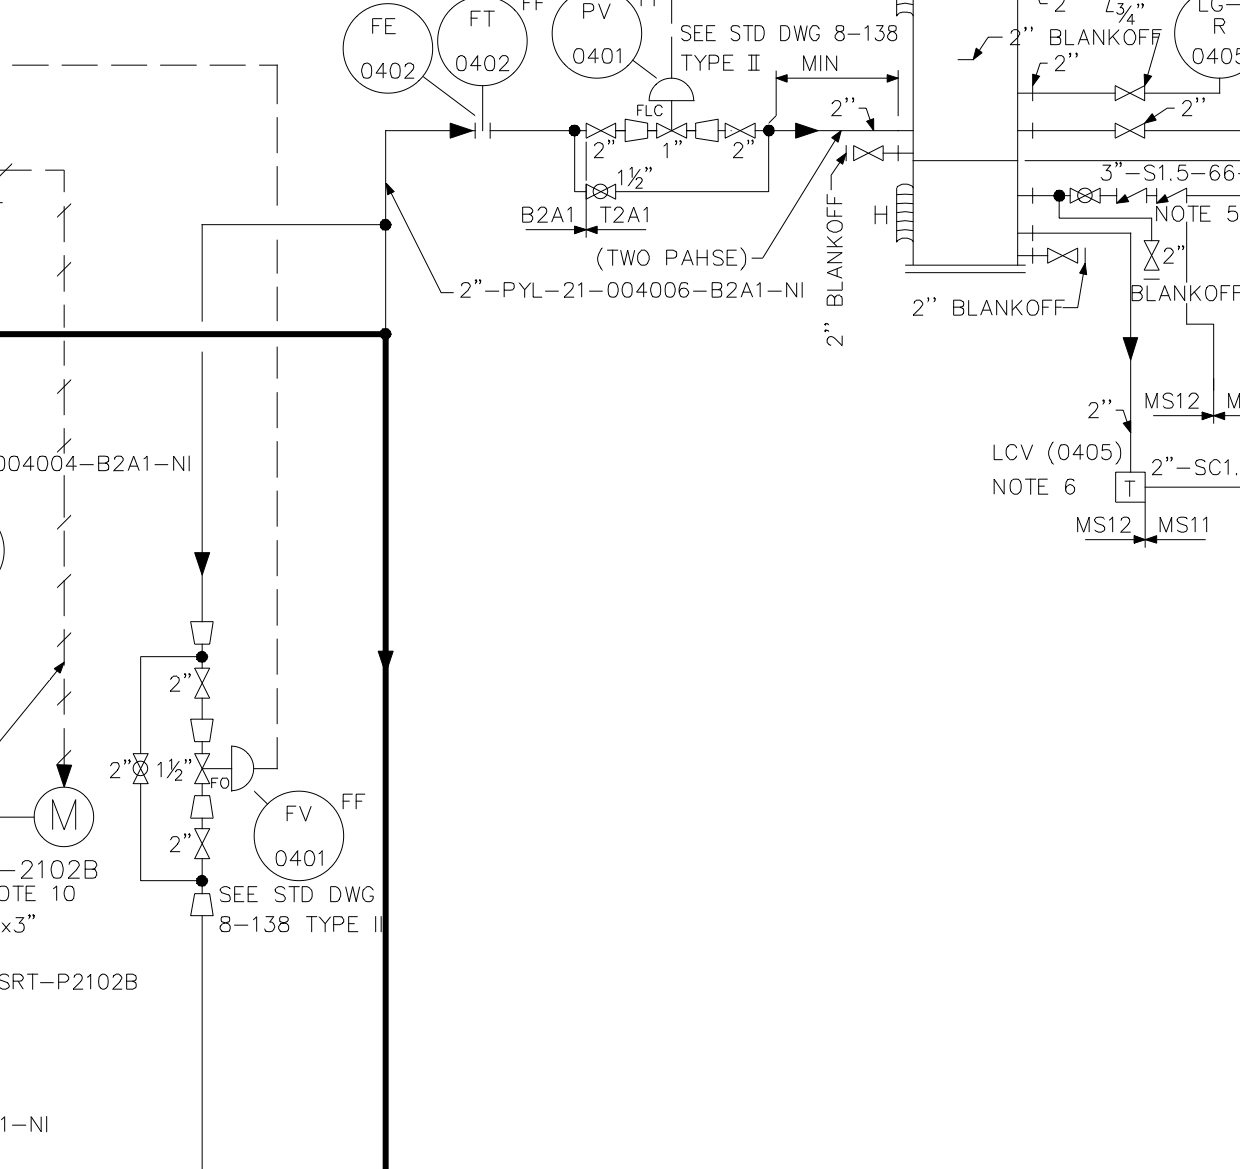Ball Valve: (129, 746, 153, 788)
Instrument Tag: (338, 1, 434, 98)
Line Number: (457, 277, 811, 305)
Valve: (190, 750, 213, 784)
